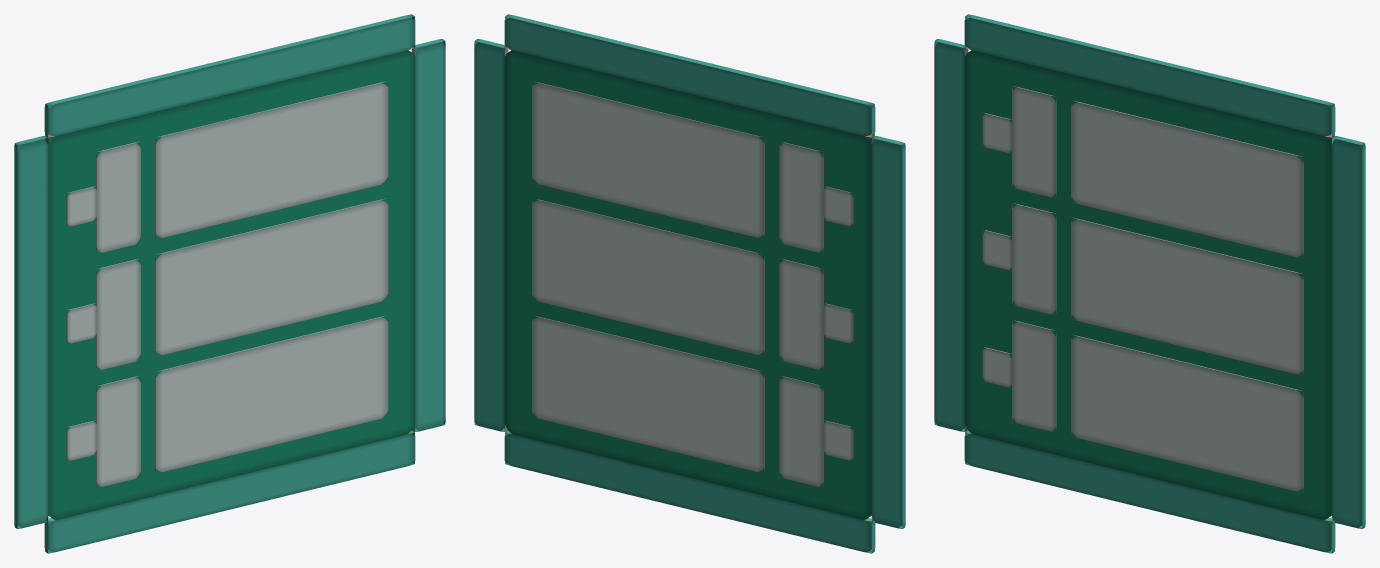
File: ammo_boxModel.fbx
3 renders of one model, left to right at view 1: azimuth 30°, elevation 25°; view 2: azimuth 150°, elevation 25°; view 3: azimuth 330°, elevation 25°, orthographic.
Visible parts, largest first — view 1: bullets, int, ext; view 2: bullets, int, ext; view 3: bullets, int, ext.
Part boxes in pixels (<box>): bullets: <box>66,81,388,487</box>; int: <box>45,48,415,521</box>; ext: <box>14,14,445,553</box>; bullets: <box>532,82,853,487</box>; int: <box>504,48,873,520</box>; ext: <box>474,14,905,553</box>; bullets: <box>982,86,1303,492</box>; int: <box>964,48,1333,521</box>; ext: <box>934,14,1365,553</box>.
Size of the model in its own units: 43.75 by 43.75 by 0.7812.
Materials: 1 (1 with a texture image).
